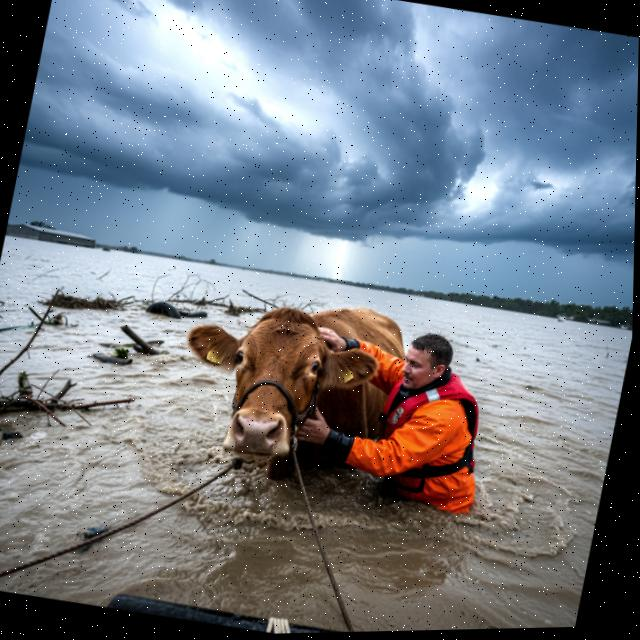cow: (153, 268, 421, 505)
rescuer: (282, 303, 521, 535)
